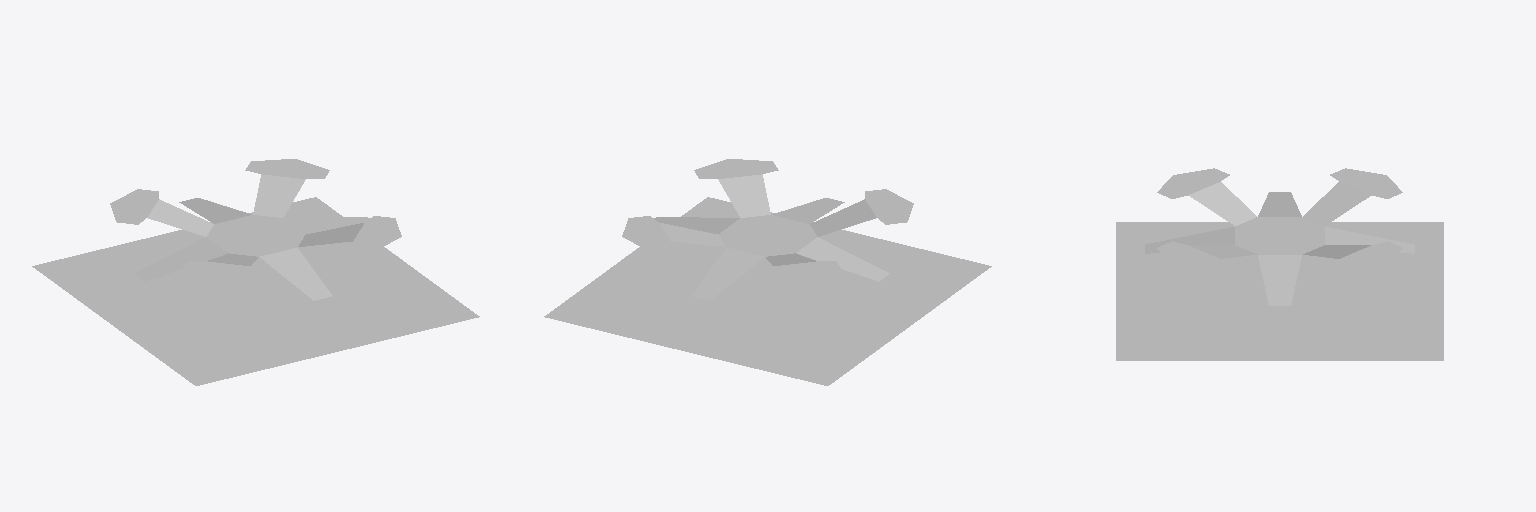
File: floors.obj
3 renders of one model, left to right at view 1: azimuth 30°, elevation 25°; view 2: azimuth 150°, elevation 25°; view 3: azimuth 270°, elevation 25°, orthographic.
Visible parts, largest first — view 1: Mesh6 Group1 Model, Mesh1 Group1 Model; view 2: Mesh6 Group1 Model, Mesh1 Group1 Model; view 3: Mesh6 Group1 Model, Mesh1 Group1 Model.
Part boxes in pixels (x1,y1,x2,y2): Mesh6 Group1 Model: (32, 197, 479, 385); Mesh1 Group1 Model: (110, 159, 401, 300); Mesh6 Group1 Model: (544, 197, 991, 385); Mesh1 Group1 Model: (622, 159, 913, 300); Mesh6 Group1 Model: (1116, 222, 1443, 360); Mesh1 Group1 Model: (1145, 168, 1414, 305).
Size of the model in its own units: 22.11 by 5.3 by 22.11.